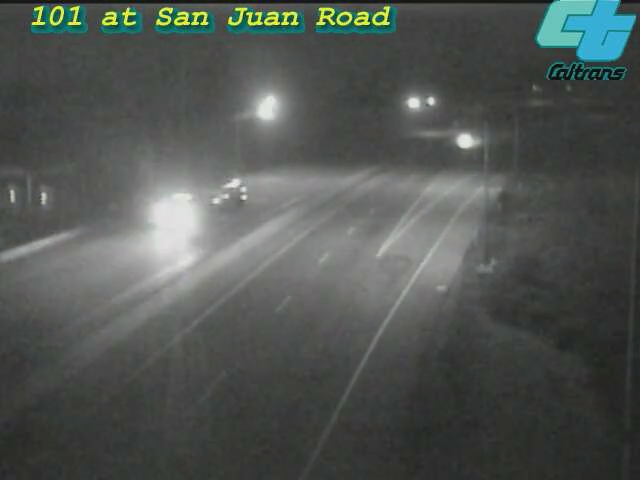vehicle: (153, 163, 233, 243), (441, 116, 491, 166)
